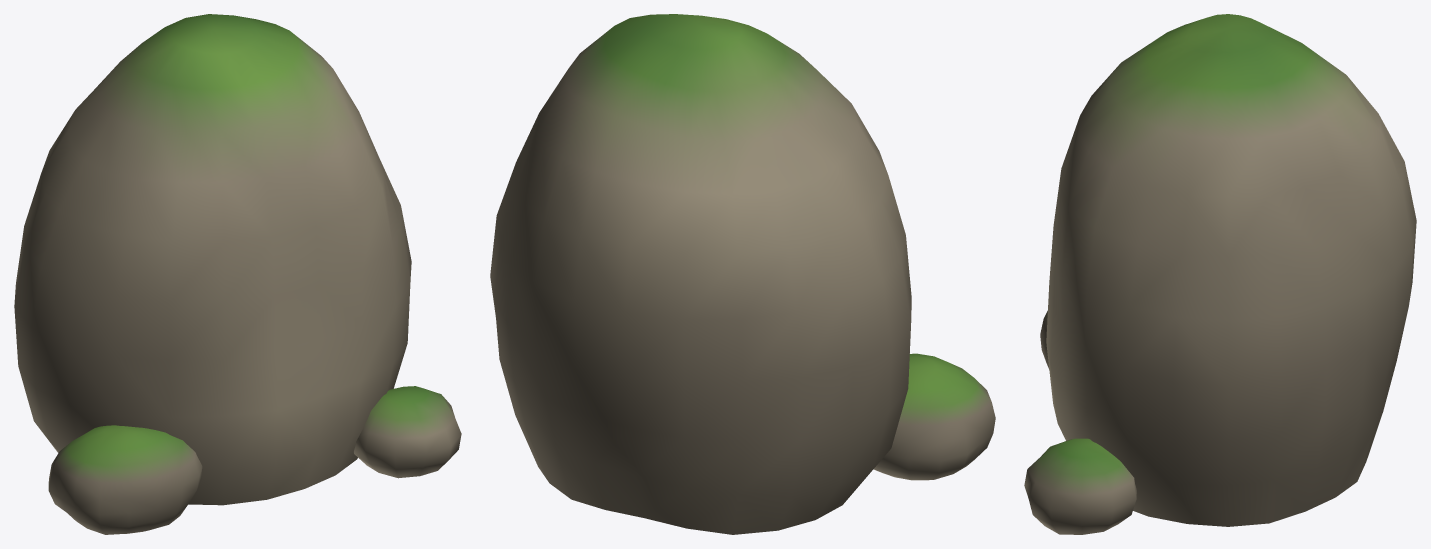
The model's file is RockB.fbx.
3 views of the same model, side by side, from view 1: azimuth 30°, elevation 25°; view 2: azimuth 150°, elevation 25°; view 3: azimuth 270°, elevation 25° (orthographic). The views are drawn at different scales.
Parts seen in each view (by area): view 1: RockB; view 2: RockB; view 3: RockB.
Boxes of the visible parts, bbox=[...] form: RockB: bbox=[14, 14, 461, 534]; RockB: bbox=[490, 14, 995, 534]; RockB: bbox=[1024, 14, 1416, 534].
Size of the model in its own units: 0.7992 by 0.812 by 0.6705.
